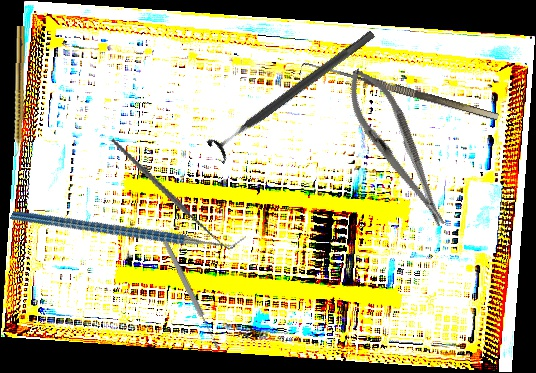Chopper: (9, 135, 248, 318)
Fixation Ring: (205, 21, 383, 166)
Handpiece: (11, 25, 26, 158)
Hook Surgical: (110, 113, 236, 274), (298, 57, 500, 132)
Needle Holder: (335, 59, 460, 237)
Surgical Spoon: (161, 239, 221, 350)
